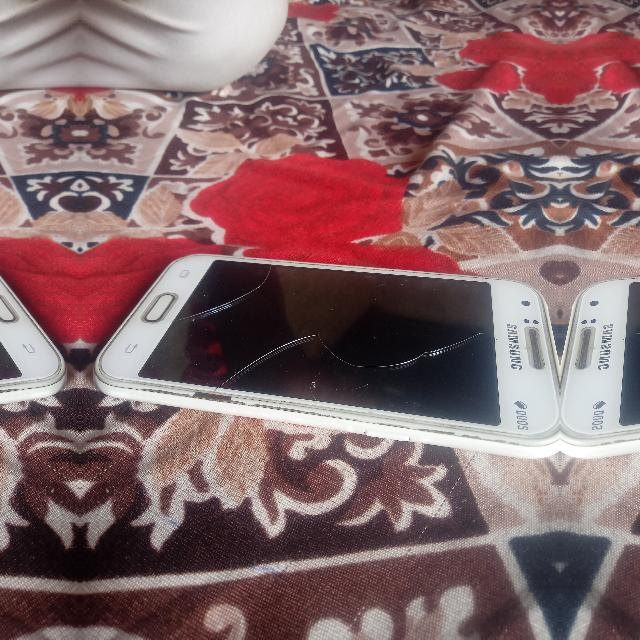phone_screen: (140, 260, 499, 425), (620, 282, 639, 425), (0, 343, 19, 379)
